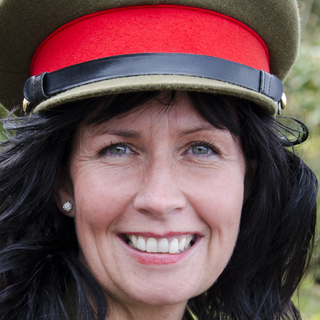eye: (175, 136, 222, 163), (90, 141, 143, 163)
